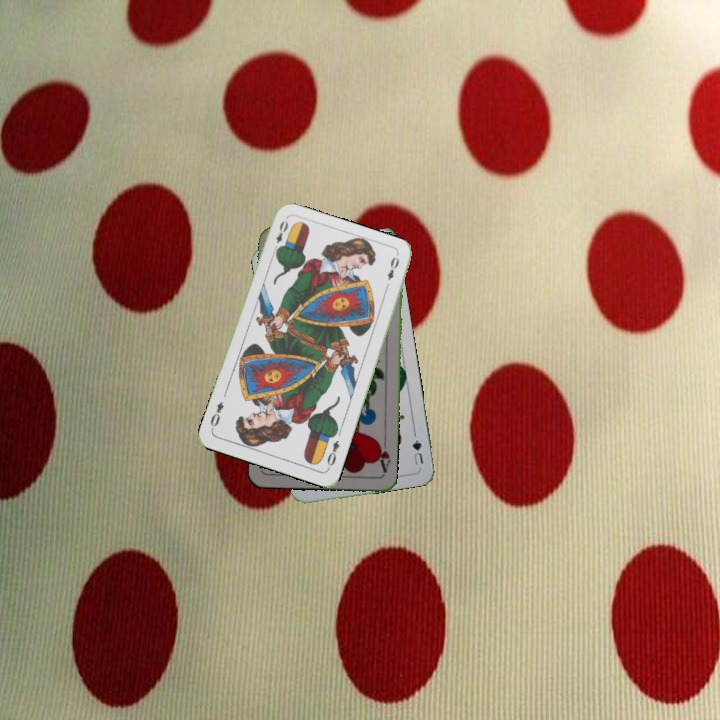EO: (270, 216, 291, 255), (323, 436, 342, 472)
GU: (408, 429, 426, 468)
HA: (373, 436, 393, 475)
